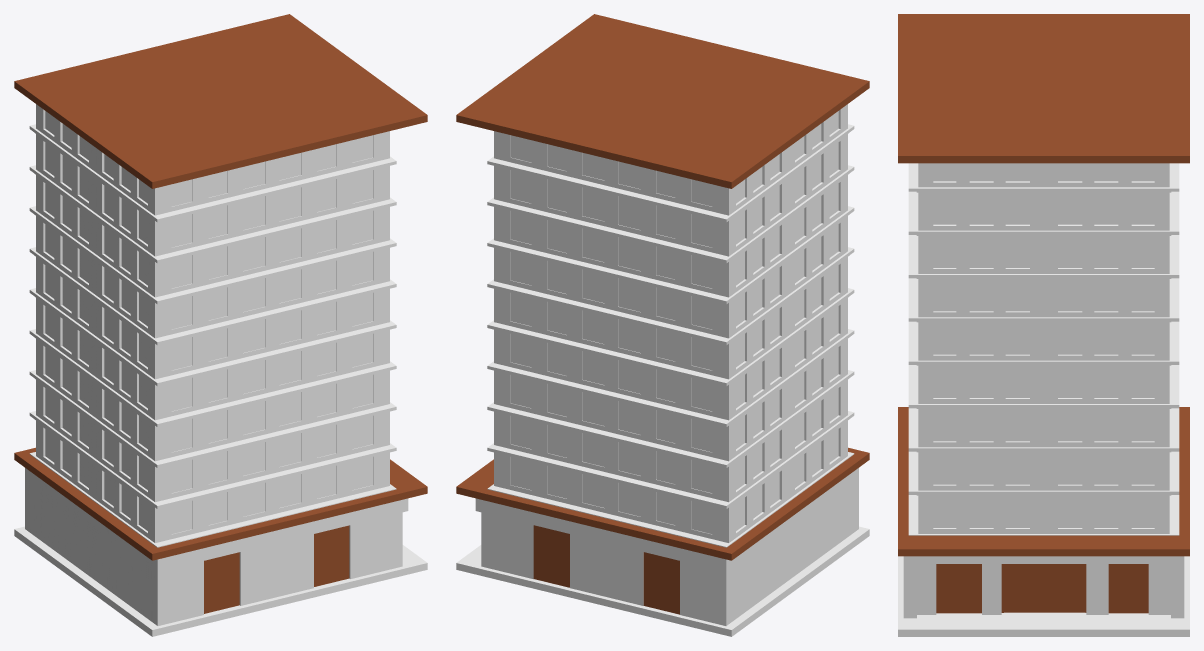
Rendered from edificio.obj.
The picture shows the model from 3 angles, left to right: view 1: azimuth 30°, elevation 25°; view 2: azimuth 150°, elevation 25°; view 3: azimuth 270°, elevation 25°; orthographic projection. The views are drawn at different scales.
Parts seen in each view (by area): view 1: Cube_Cube_001, Cube_001_Cube_010, Cube_003_Cube_012, Cube_002_Cube_011, Cube_010_Cube_019, Cube_009_Cube_018; view 2: Cube_Cube_001, Cube_001_Cube_010, Cube_003_Cube_012, Cube_002_Cube_011, Cube_008_Cube_017, Cube_007_Cube_016; view 3: Cube_Cube_001, Cube_001_Cube_010, Cube_003_Cube_012, Cube_002_Cube_011, Cube_004_Cube_013, Cube_005_Cube_014, Cube_006_Cube_015.
Part boxes in pixels (x1=…): Cube_Cube_001: x1=29, y1=104, x2=396, y2=547; Cube_001_Cube_010: x1=14, y1=14, x2=427, y2=188; Cube_003_Cube_012: x1=14, y1=468, x2=427, y2=636; Cube_002_Cube_011: x1=14, y1=447, x2=427, y2=560; Cube_010_Cube_019: x1=314, y1=525, x2=349, y2=586; Cube_009_Cube_018: x1=204, y1=552, x2=239, y2=613; Cube_Cube_001: x1=487, y1=104, x2=854, y2=547; Cube_001_Cube_010: x1=456, y1=14, x2=869, y2=188; Cube_003_Cube_012: x1=456, y1=468, x2=869, y2=636; Cube_002_Cube_011: x1=456, y1=447, x2=869, y2=560; Cube_008_Cube_017: x1=643, y1=552, x2=679, y2=614; Cube_007_Cube_016: x1=533, y1=525, x2=569, y2=587; Cube_Cube_001: x1=908, y1=163, x2=1179, y2=535; Cube_001_Cube_010: x1=898, y1=14, x2=1189, y2=163; Cube_003_Cube_012: x1=898, y1=556, x2=1189, y2=636; Cube_002_Cube_011: x1=898, y1=407, x2=1189, y2=556; Cube_004_Cube_013: x1=1001, y1=564, x2=1086, y2=612; Cube_005_Cube_014: x1=936, y1=564, x2=981, y2=613; Cube_006_Cube_015: x1=1108, y1=564, x2=1148, y2=613.
Size of the model in its own units: 2.3 by 3.63 by 2.
